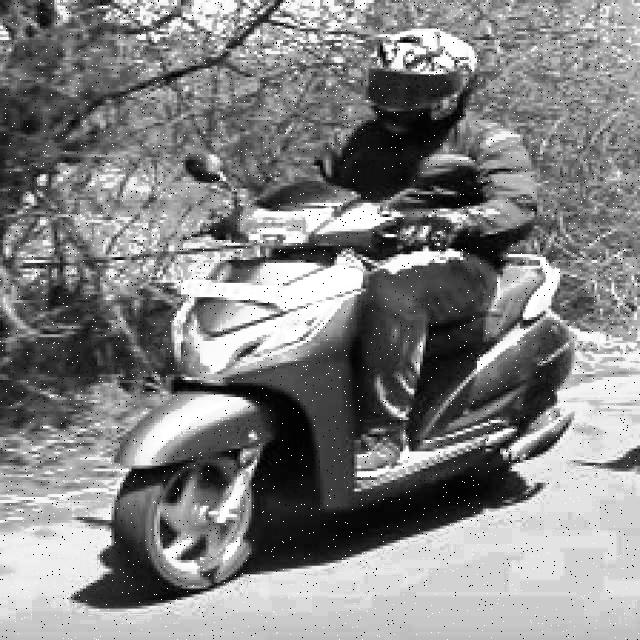Bike: (98, 197, 572, 597)
